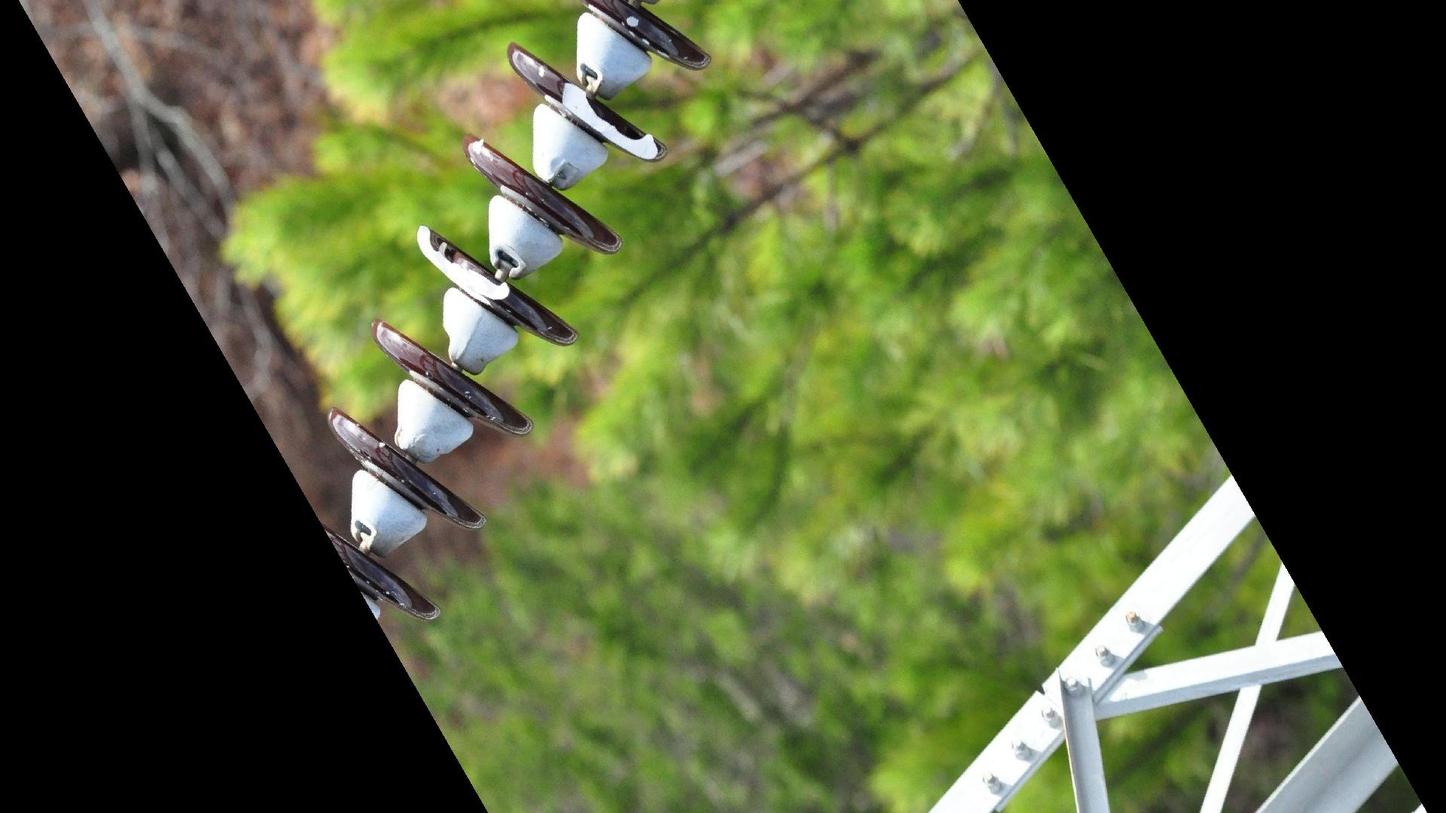insulator: (312, 1, 715, 632)
insulator_breakage: (549, 72, 670, 172), (411, 221, 517, 305)
